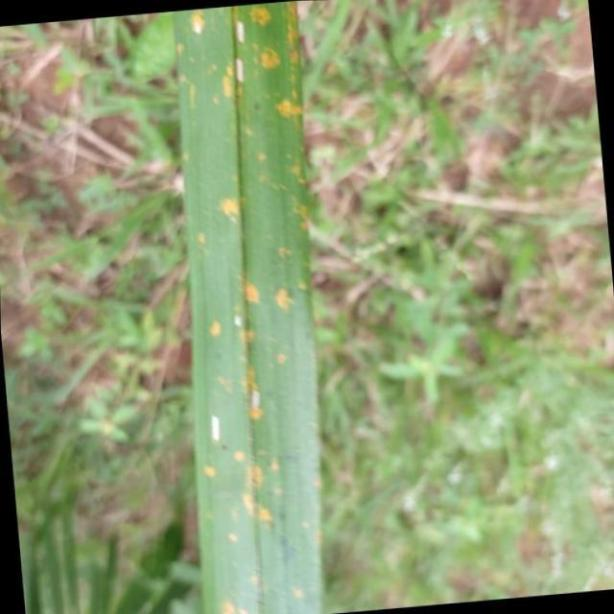Kalium: (177, 3, 327, 614)
